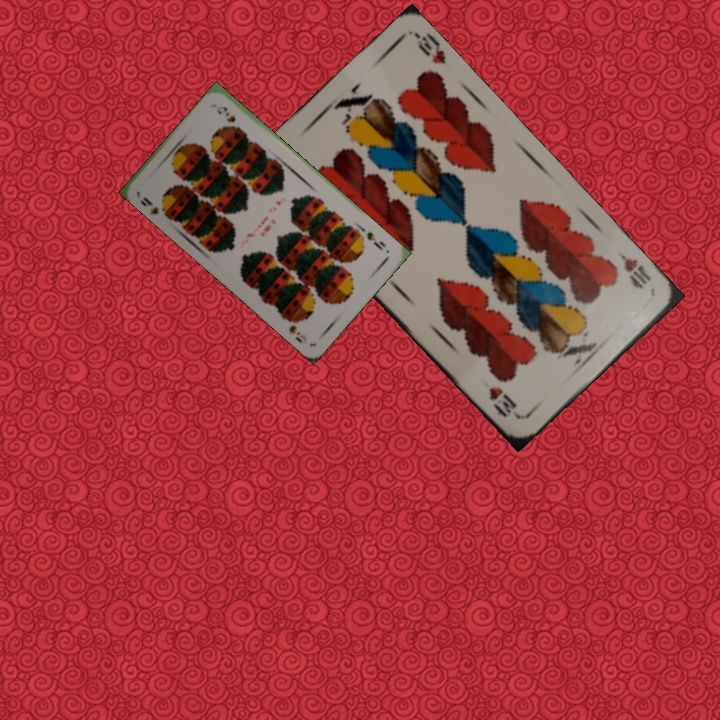H10: (612, 247, 654, 292)
S9: (136, 193, 171, 220), (363, 227, 389, 253)
